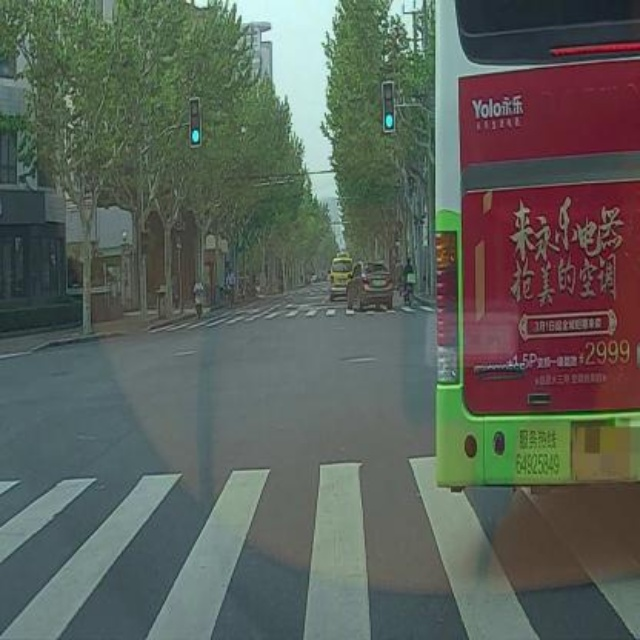Đèn xanh: (382, 77, 397, 134), (189, 95, 203, 150)
